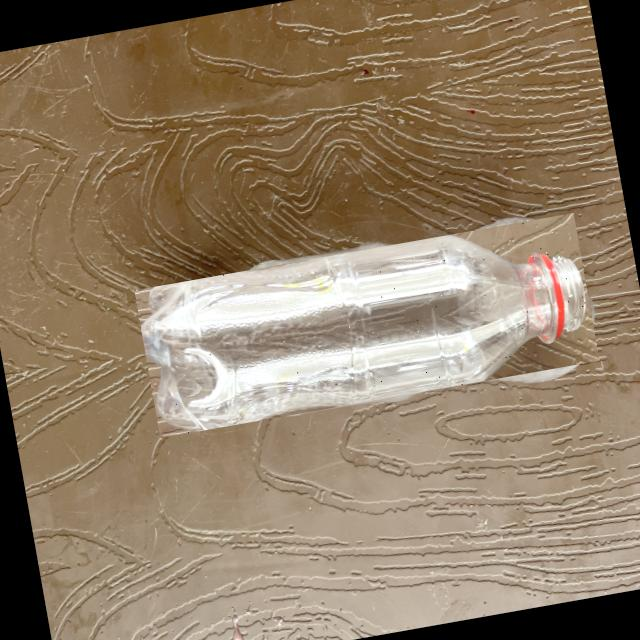PET_With_Cap: (134, 213, 599, 438)
